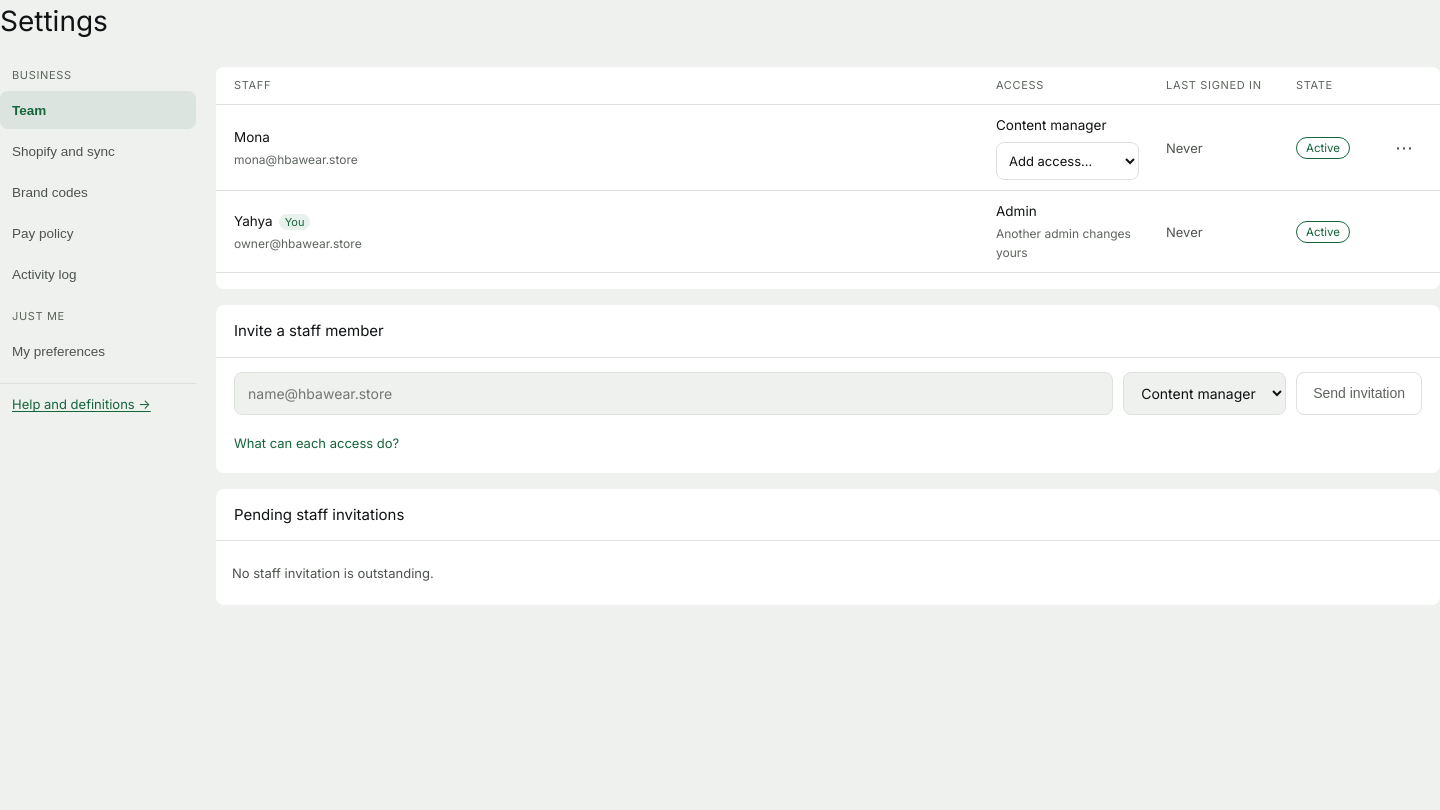
it: Settings → Team › asks before giving somebody access, and says what they gain
Select "Admin" in the dropdown named "Add access for Mona" at x=1068, y=161, box [996,142,1139,180]
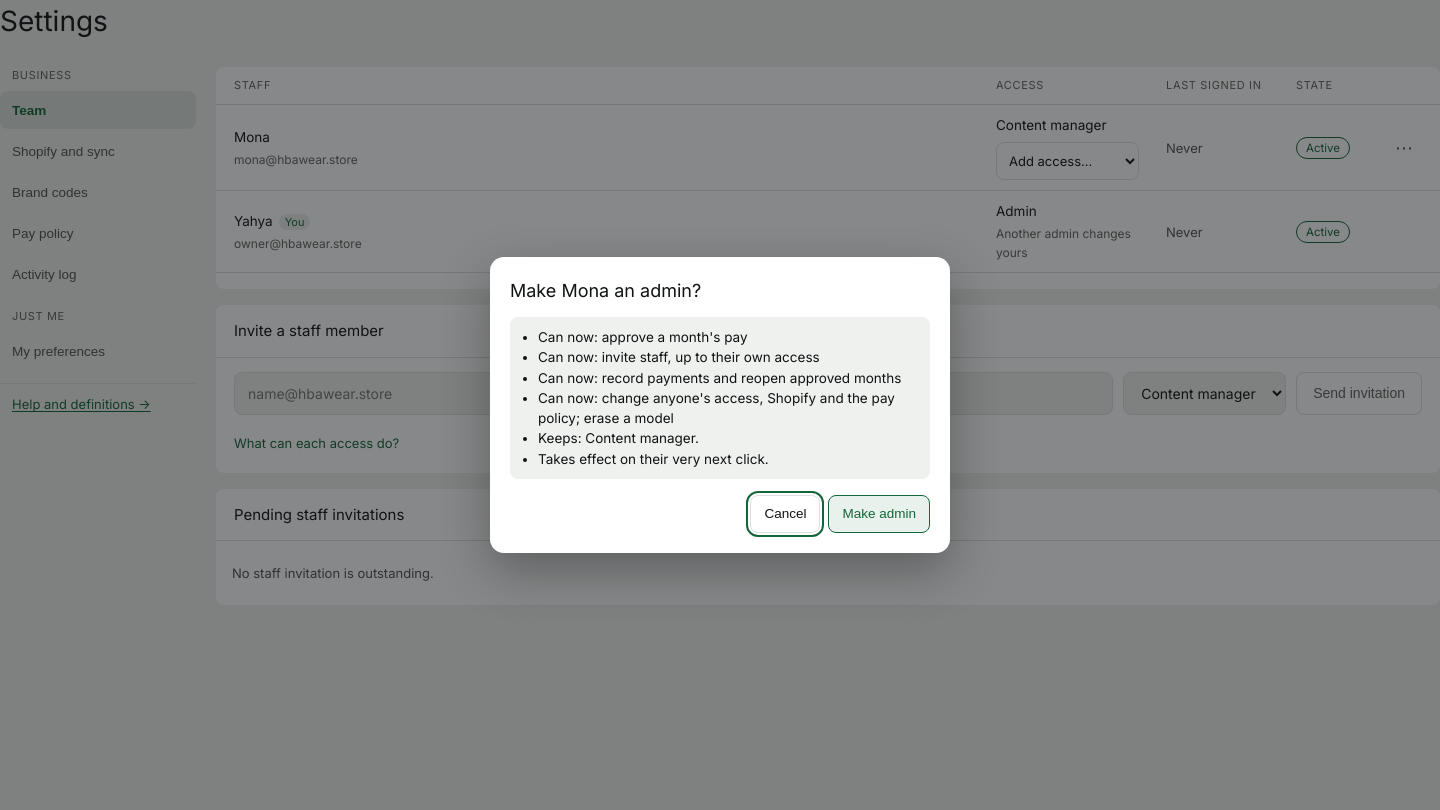
expect the dialog shows "Make Mona an admin?": met, box [510,280,701,301]
expect the dialog shows "record payments and reopen approved months": met, box [538,370,901,386]
expect the dialog shows "Keeps: Content manager.": met, box [538,430,699,446]
